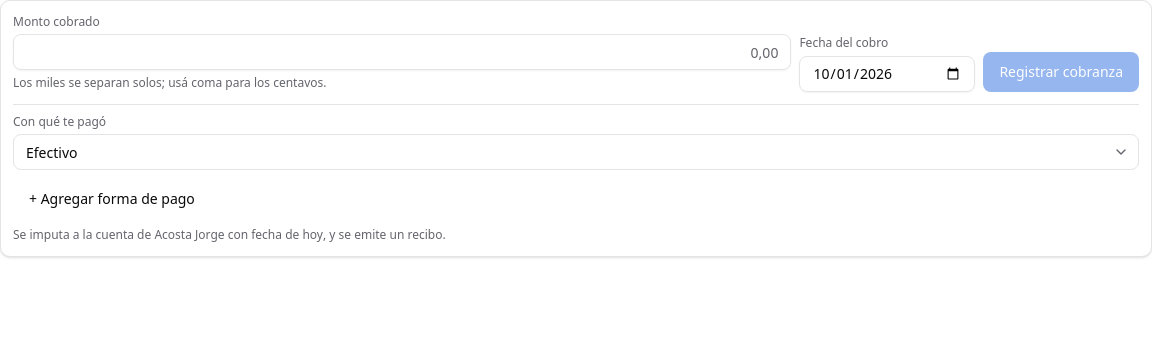
FormularioImputacion — formas de pago › después de registrar, el formulario vuelve a cero
This screenshot has width=1152, height=340.
Type "1000" into the field labelled "Monto cobrado" at (402,52), box [13,34,791,70]
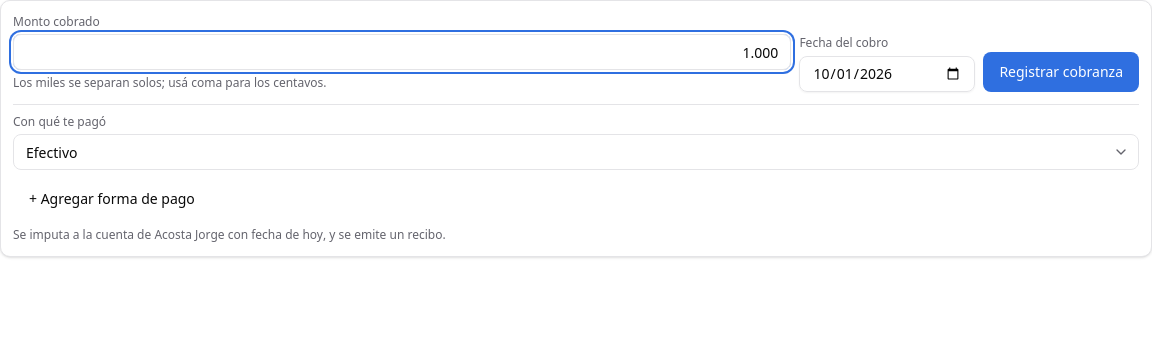
Click the button "+ Agregar forma de pago" at (112,198), box [13,178,211,218]
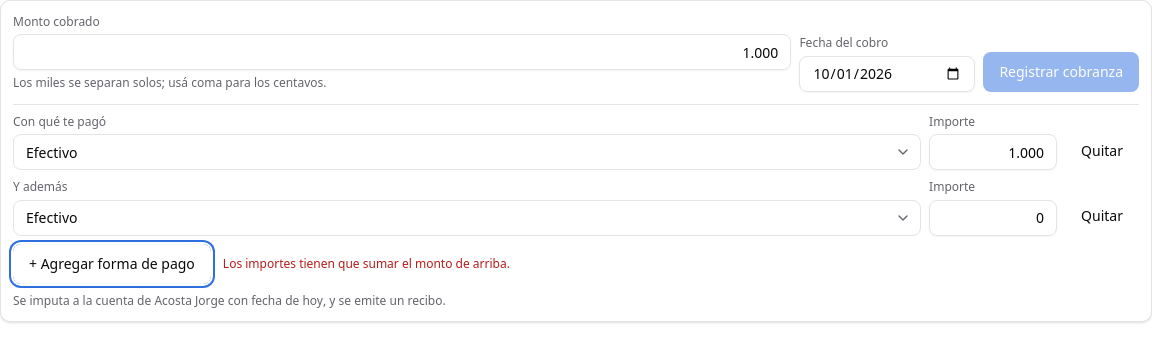
Replace the text in the 1st field labelled "Importe" with "400" at (993,152), box [929,134,1057,170]
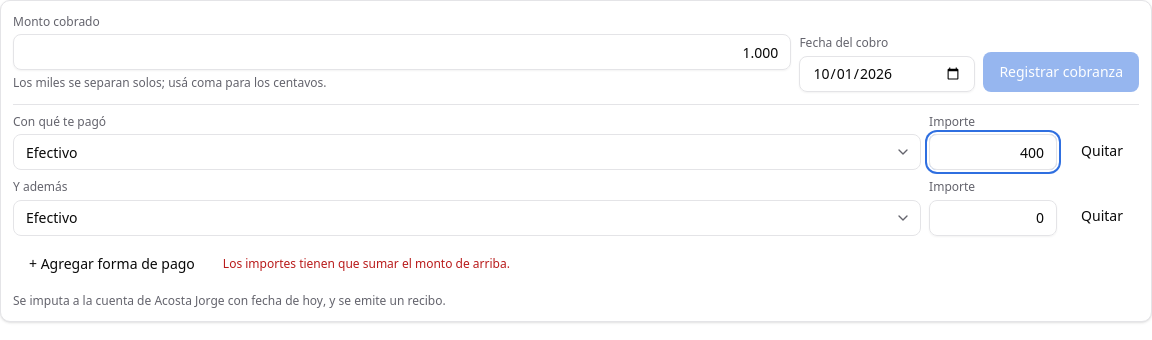
Replace the text in the 2nd field labelled "Importe" with "600" at (993,218), box [929,200,1057,236]
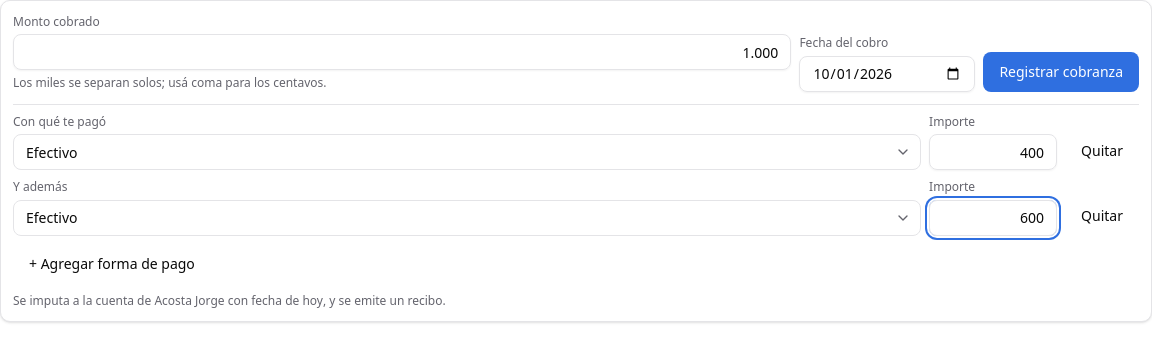
Click the button "Registrar cobranza" at (1061,72), box [983,52,1139,92]
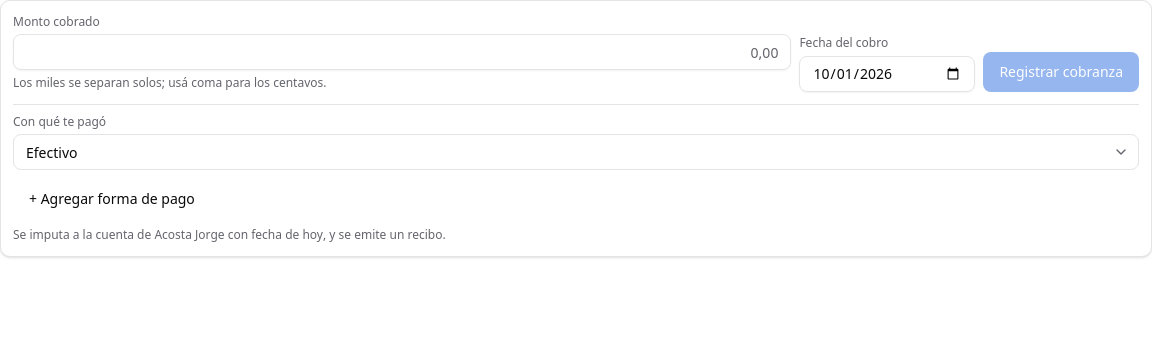
Expected: the dropdown labelled "Con qué te pagó" shows "Efectivo", [13,134,1139,170]
Expected: the field labelled "Monto cobrado" is empty, [13,34,791,70]
Expected: the label labelled "Importe" is gone
